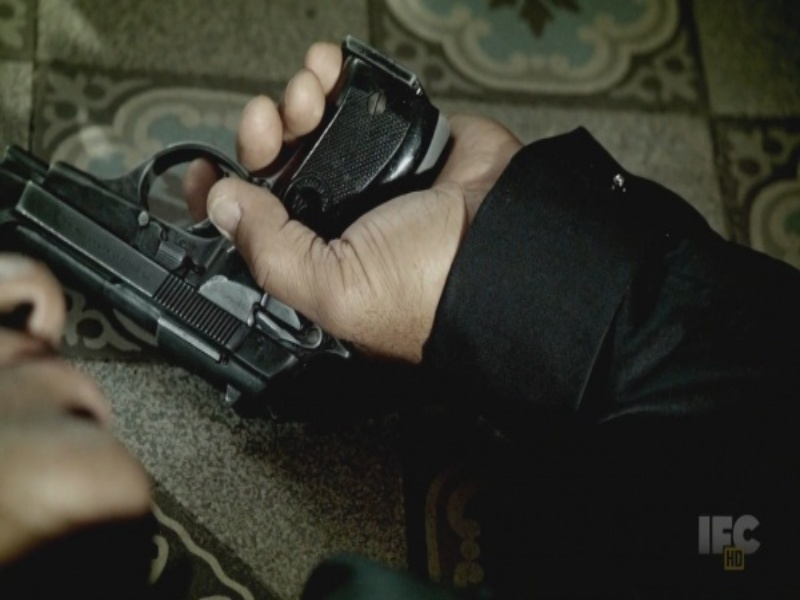weapon: (3, 32, 473, 405)
